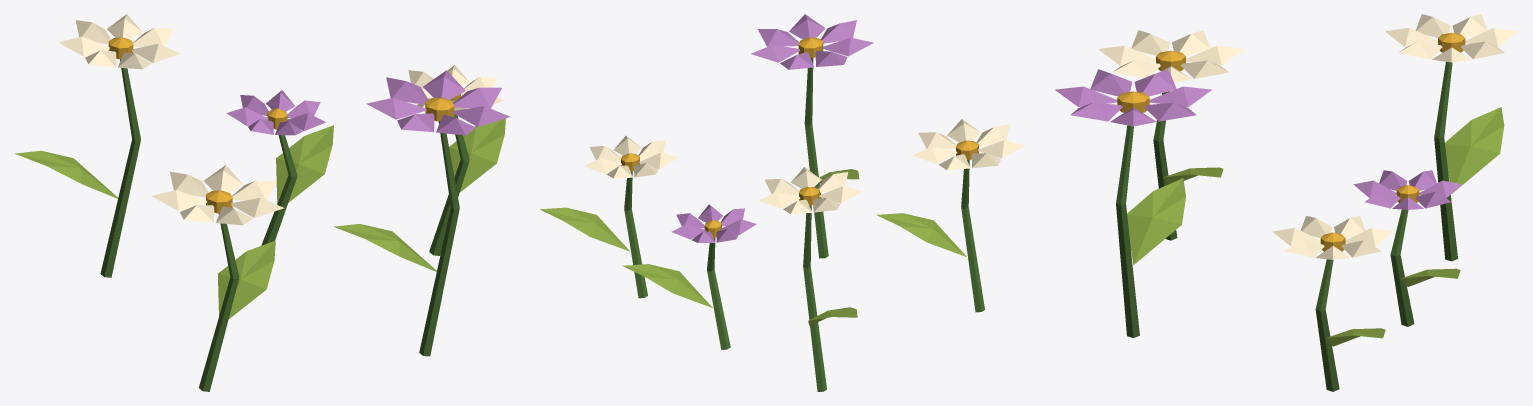
File: FlowerCluster.glb
3 renders of one model, left to right at view 1: azimuth 30°, elevation 25°; view 2: azimuth 150°, elevation 25°; view 3: azimuth 270°, elevation 25°, orthographic. The views are drawn at different scales.
Visible parts, largest first — view 1: FlowerCluster; view 2: FlowerCluster; view 3: FlowerCluster.
Boxes of the visible parts, box(x1,y1,x2,y2) form: FlowerCluster: box(15, 14, 510, 391); FlowerCluster: box(540, 14, 1025, 391); FlowerCluster: box(1055, 14, 1517, 391).
Bounding box in the file's own units: 1.1 × 0.6 × 1.
